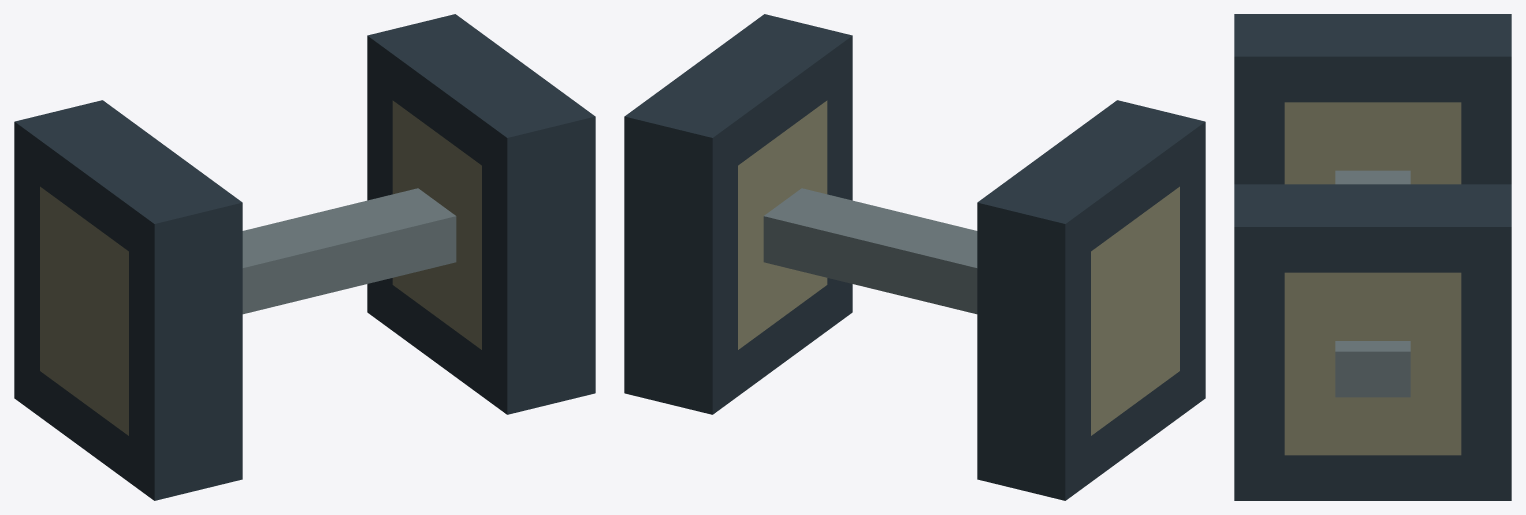
The model's file is fitness-01.glb.
The picture shows the model from 3 angles, left to right: view 1: azimuth 30°, elevation 25°; view 2: azimuth 150°, elevation 25°; view 3: azimuth 270°, elevation 25°; orthographic projection.
Parts seen in each view (by area): view 1: Dumbbell rack; view 2: Dumbbell rack; view 3: Dumbbell rack.
Part boxes in pixels (bbox=[...]): Dumbbell rack: bbox=[14, 14, 595, 500]; Dumbbell rack: bbox=[624, 14, 1205, 500]; Dumbbell rack: bbox=[1234, 14, 1511, 500].
Bounding box in the file's own units: 1.68 × 0.96 × 0.88.
